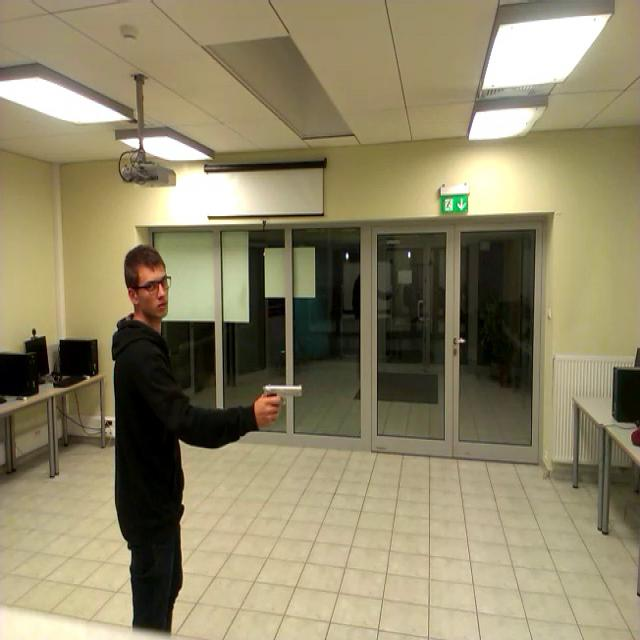handgun: (259, 374, 307, 428)
